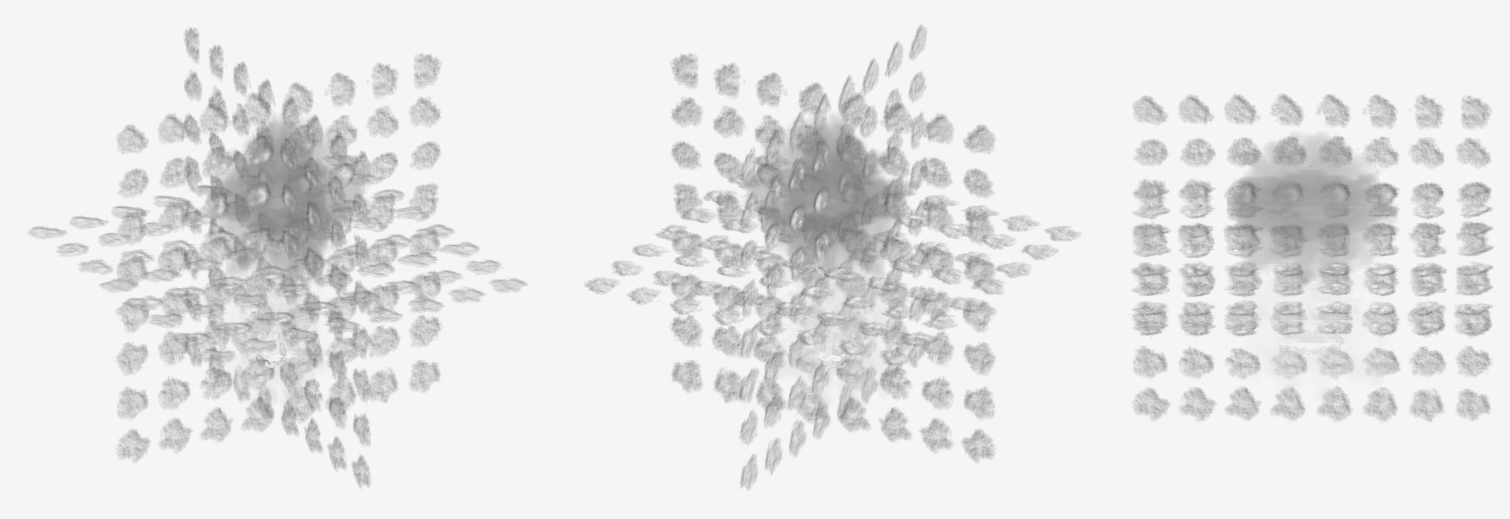
File: neutralbuildingexplosion.glb
3 renders of one model, left to right at view 1: azimuth 30°, elevation 25°; view 2: azimuth 150°, elevation 25°; view 3: azimuth 270°, elevation 25°, orthographic. The views are drawn at different scales.
Visible parts, largest first — view 1: mesh; view 2: mesh; view 3: mesh.
Boxes of the visible parts, x1,y1,x2,y2 form: mesh: (28, 28, 526, 487); mesh: (585, 25, 1080, 489); mesh: (1132, 94, 1492, 421).
Size of the model in its own units: 4.81 by 4.81 by 4.81.
Materials: 4 (4 with a texture image).
